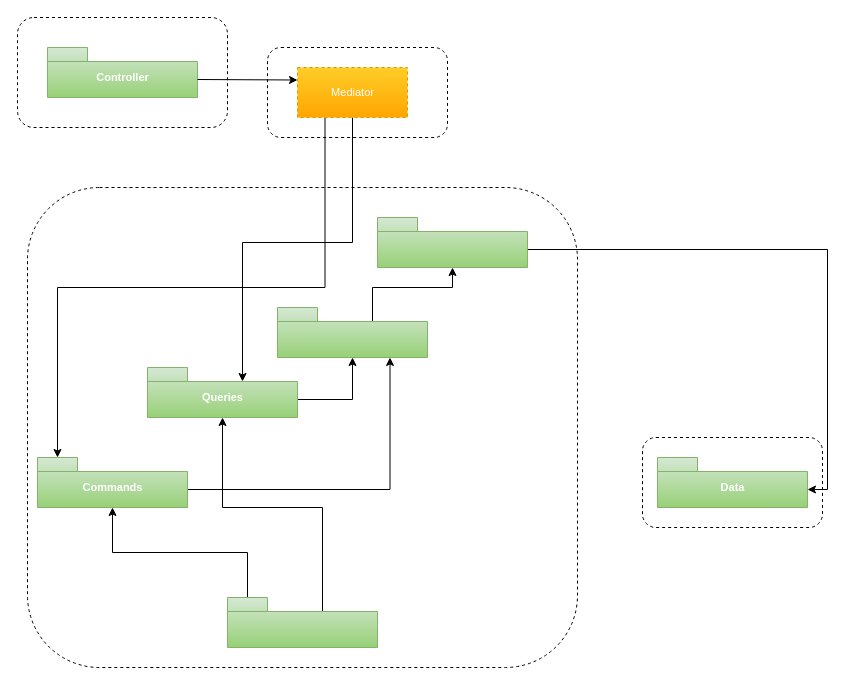
Some shapes in this 853 by 685 pixel diagram are drawn without their labels. Here are the shapes that lost their labels. From the top down, the centre of each, then its label:
pixel 452 242: Extensions
pixel 352 332: Handlers
pixel 302 622: Models
